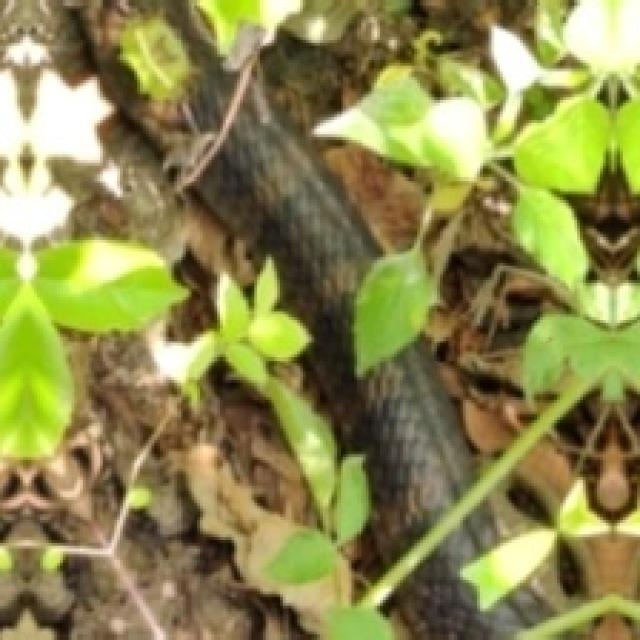king cobra: (63, 0, 637, 637), (140, 366, 271, 551)
